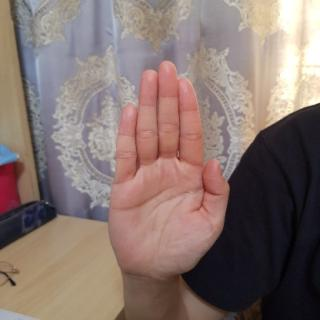SEEN: (104, 56, 233, 291)
